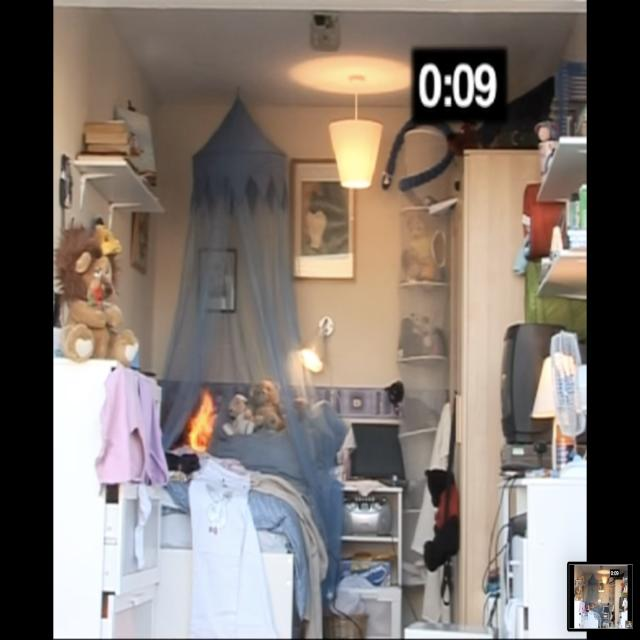Fogo: (176, 380, 233, 476)
